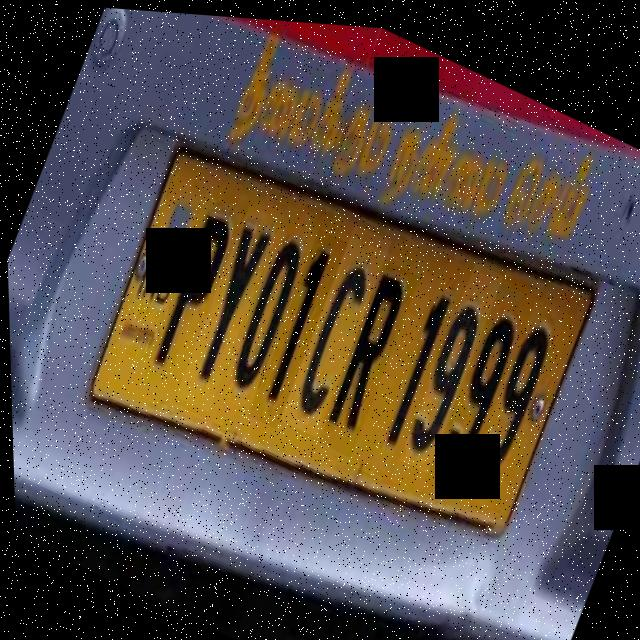0: (209, 225, 315, 412)
1: (354, 258, 465, 477), (239, 220, 351, 430)
9: (416, 268, 539, 495), (391, 250, 506, 471), (460, 281, 574, 492)
C: (272, 214, 395, 437)
P: (136, 179, 253, 392)
R: (310, 252, 422, 458)
Y: (168, 197, 285, 414)
